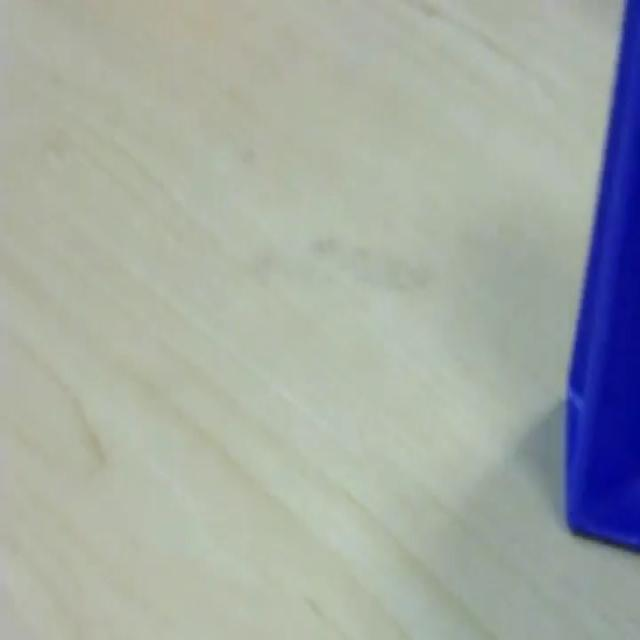blue_block: (562, 0, 638, 552)
